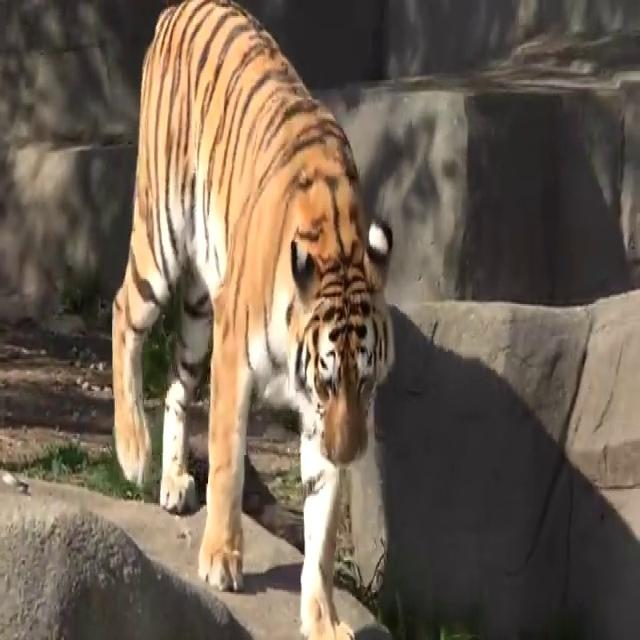tiger: (111, 0, 396, 640)
